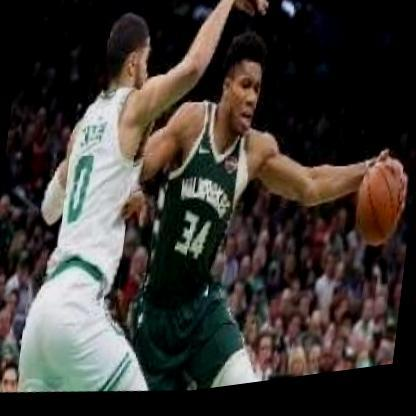basketball: (340, 157, 416, 264)
